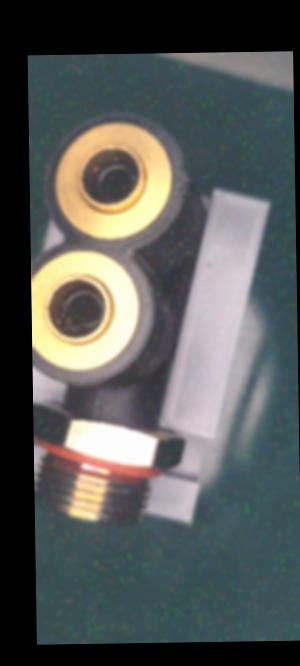bump: (175, 155, 193, 190)
off-centered: (60, 281, 112, 333)
white mark: (91, 401, 107, 417)
